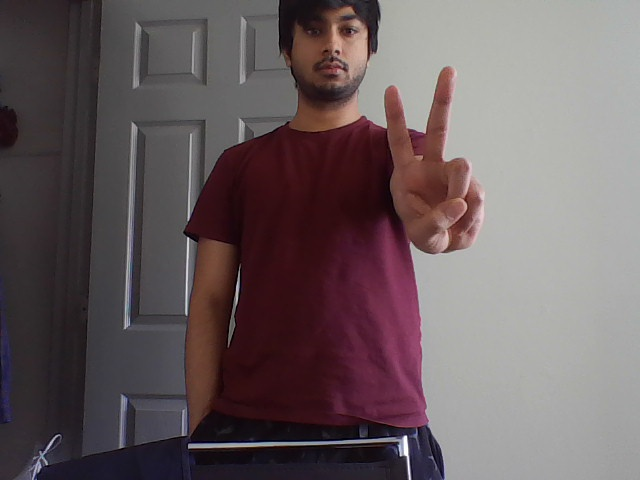two: (379, 61, 470, 175)
